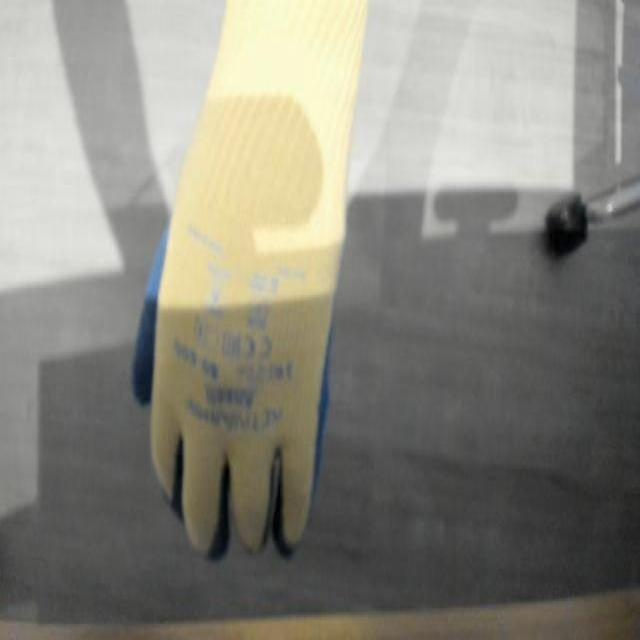Guantes: (136, 180, 336, 573)
